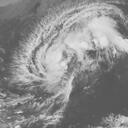cyclone: (23, 30, 80, 88)
